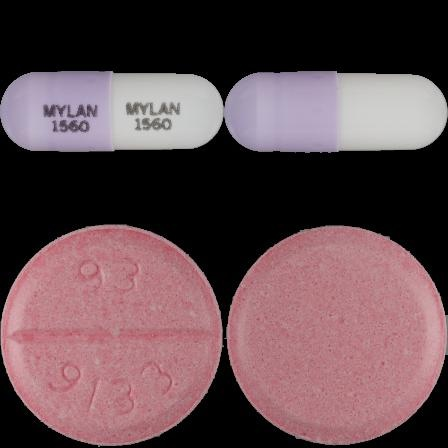51079-905: (0, 0, 224, 224)
